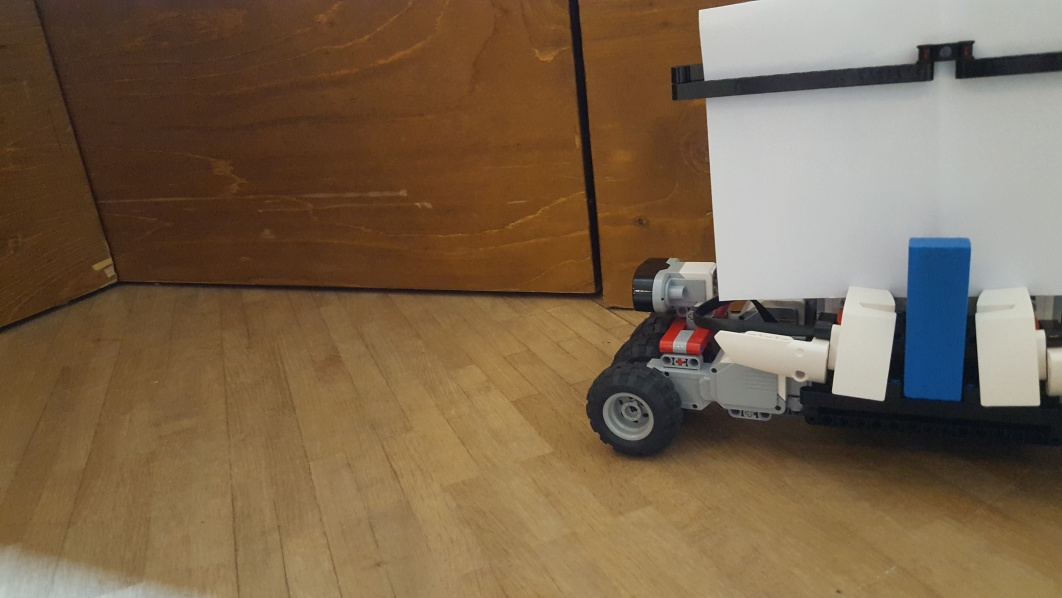car: (587, 1, 1062, 459)
